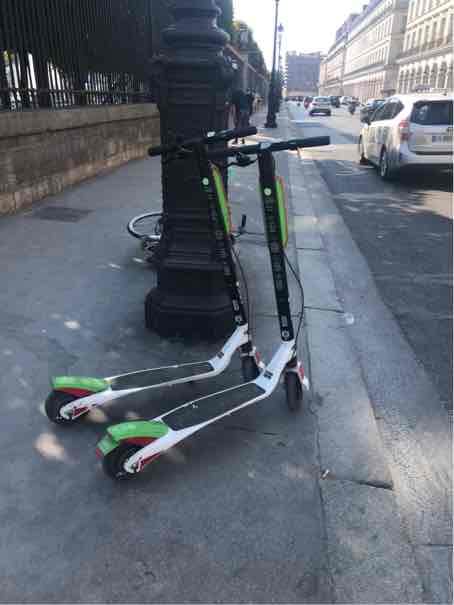scooter: (68, 128, 333, 486)
